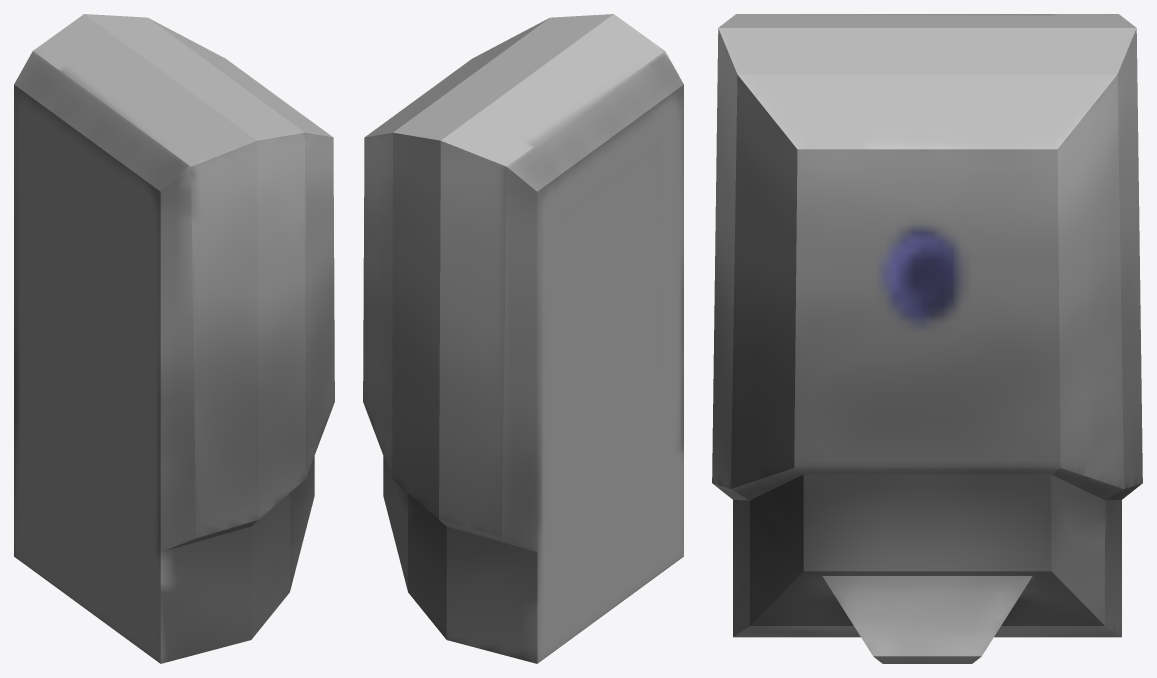
The model's file is soap.obj.
3 views of the same model, side by side, from view 1: azimuth 30°, elevation 25°; view 2: azimuth 150°, elevation 25°; view 3: azimuth 270°, elevation 25° (orthographic). The views are drawn at different scales.
Parts seen in each view (by area): view 1: soap; view 2: soap; view 3: soap.
Boxes of the visible parts, bbox=[...] form: soap: bbox=[14, 14, 334, 663]; soap: bbox=[363, 14, 683, 663]; soap: bbox=[712, 14, 1142, 663].
Bounding box in the file's own units: 0.1673 × 0.426 × 0.2684.
